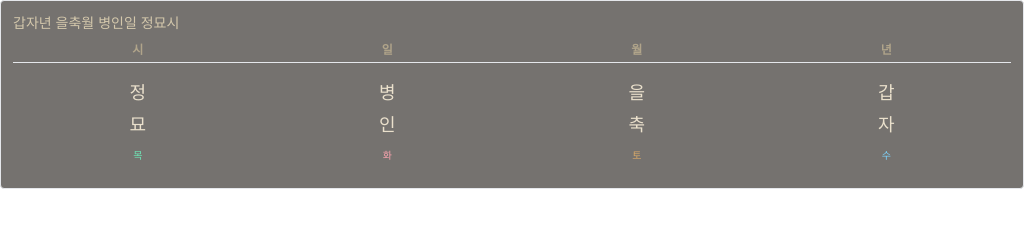
<SajuChart /> (ISSUE-042) › tapping the same cell again closes the tooltip
The image size is (1024, 232).
Click the button with test id "saju-cell-month" at [637, 123], box [516, 71, 758, 175]
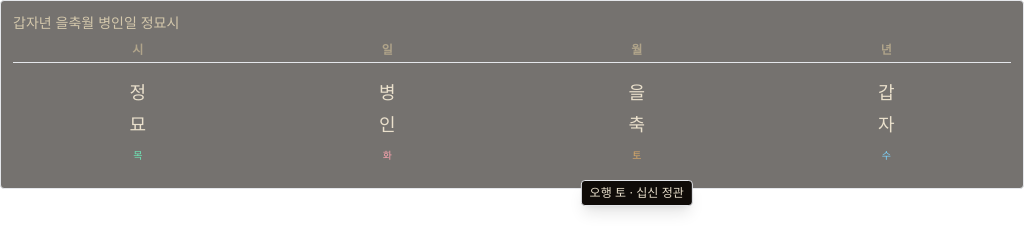
Check: the tooltip with test id "saju-tooltip-month" is shown, box [581, 180, 693, 206]
Click the button with test id "saju-cell-month" at [637, 123], box [516, 71, 758, 175]
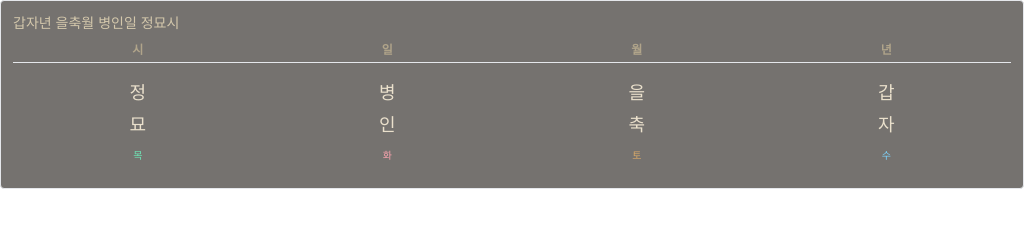
Check: the tooltip with test id "saju-tooltip-month" is gone
